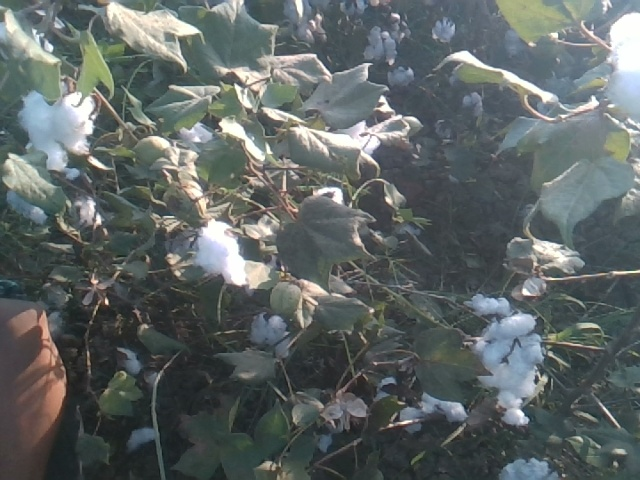cotton: (461, 290, 546, 437), (20, 83, 100, 168), (178, 218, 247, 288), (600, 7, 640, 120), (245, 306, 297, 360), (494, 453, 562, 480), (365, 21, 403, 65), (387, 61, 415, 86), (431, 14, 457, 40)
